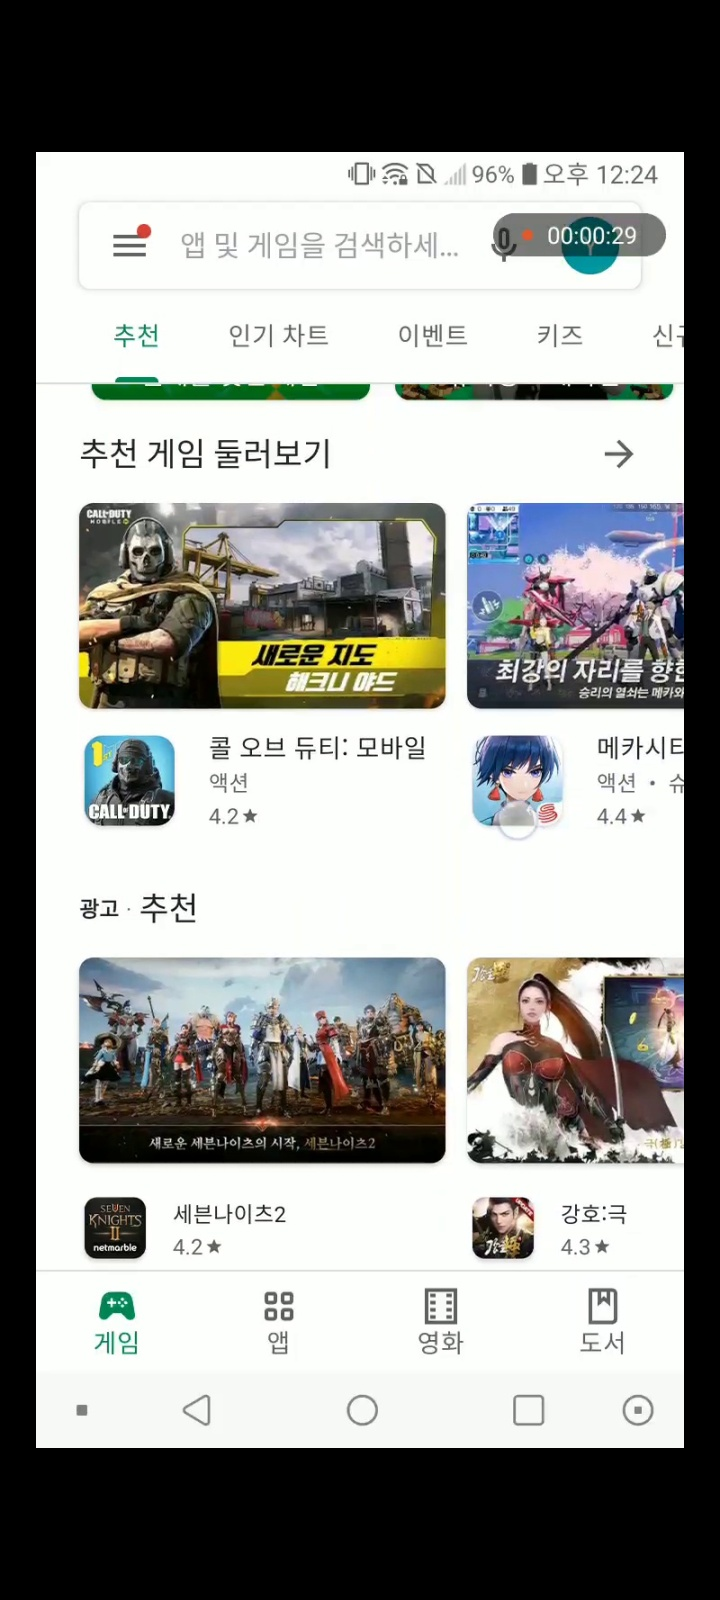Cursor: (495, 799, 541, 844)
